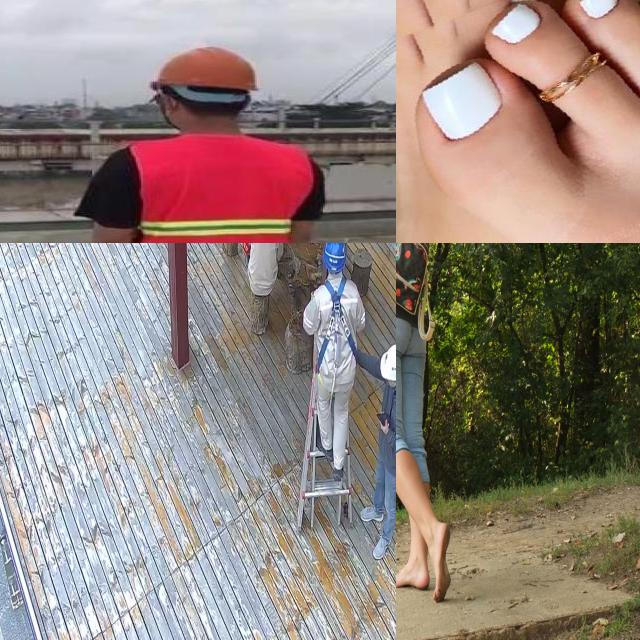Barefoots: (396, 0, 640, 243), (408, 0, 640, 243), (433, 522, 451, 602), (396, 563, 429, 590)
Harness: (319, 275, 356, 375)
No_Ear-Protection: (156, 92, 182, 120)
person: (70, 44, 326, 243)
